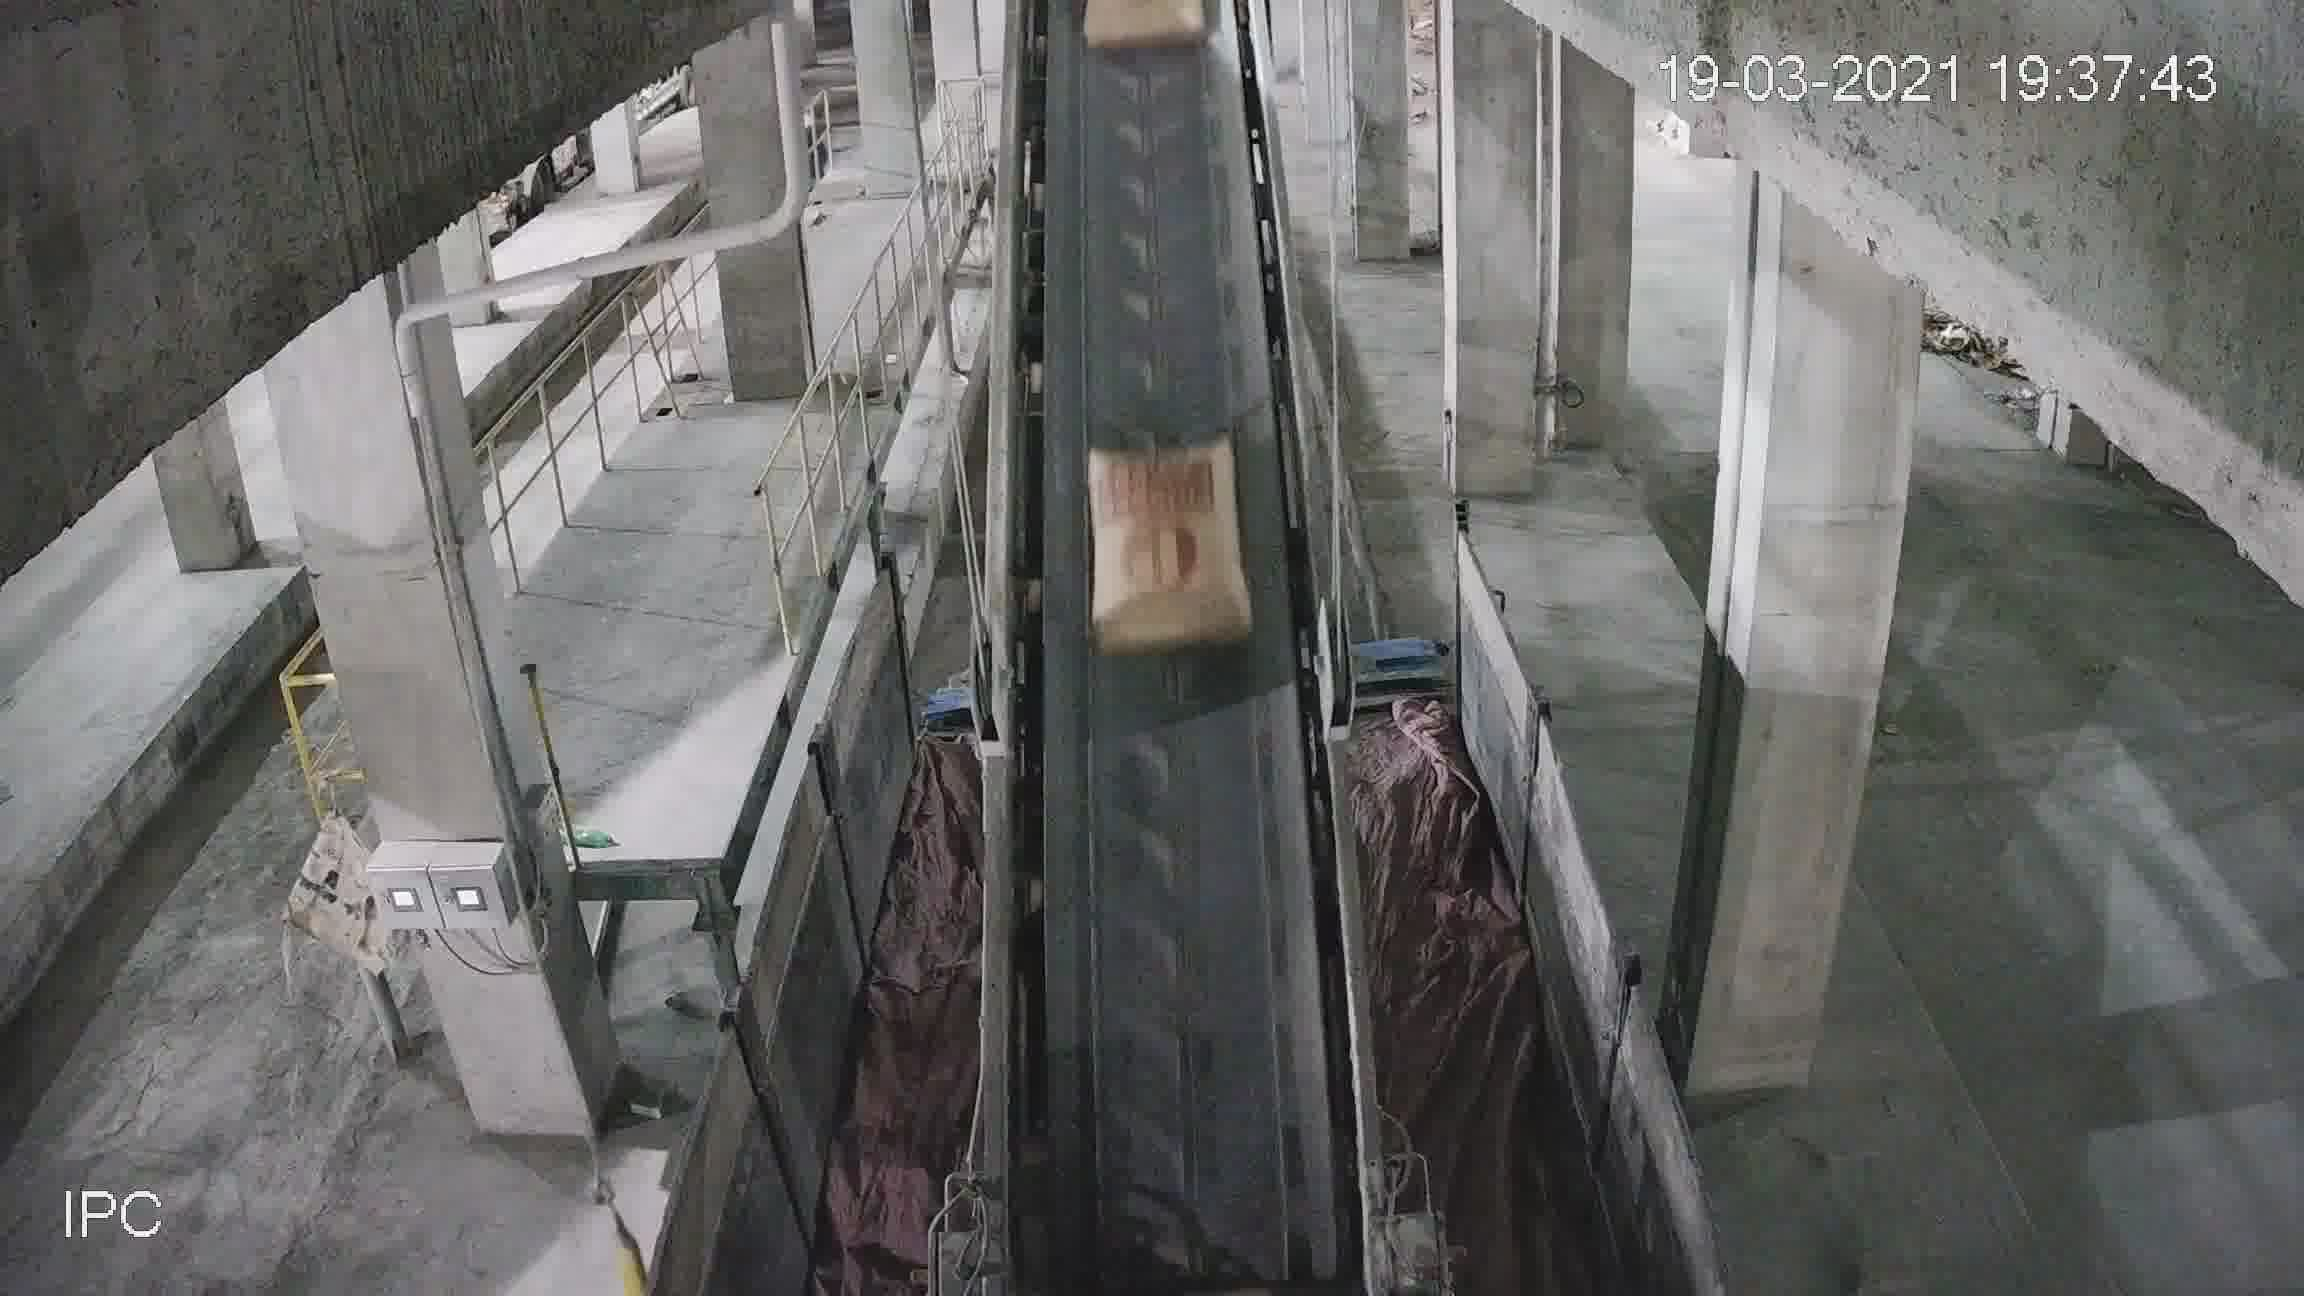bag: (1090, 437, 1237, 649)
belt: (978, 84, 1356, 1199)
